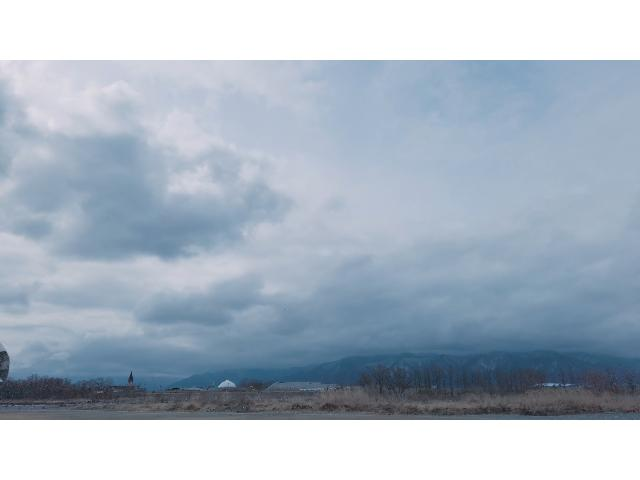Anti-Drone: (280, 304, 292, 314)
